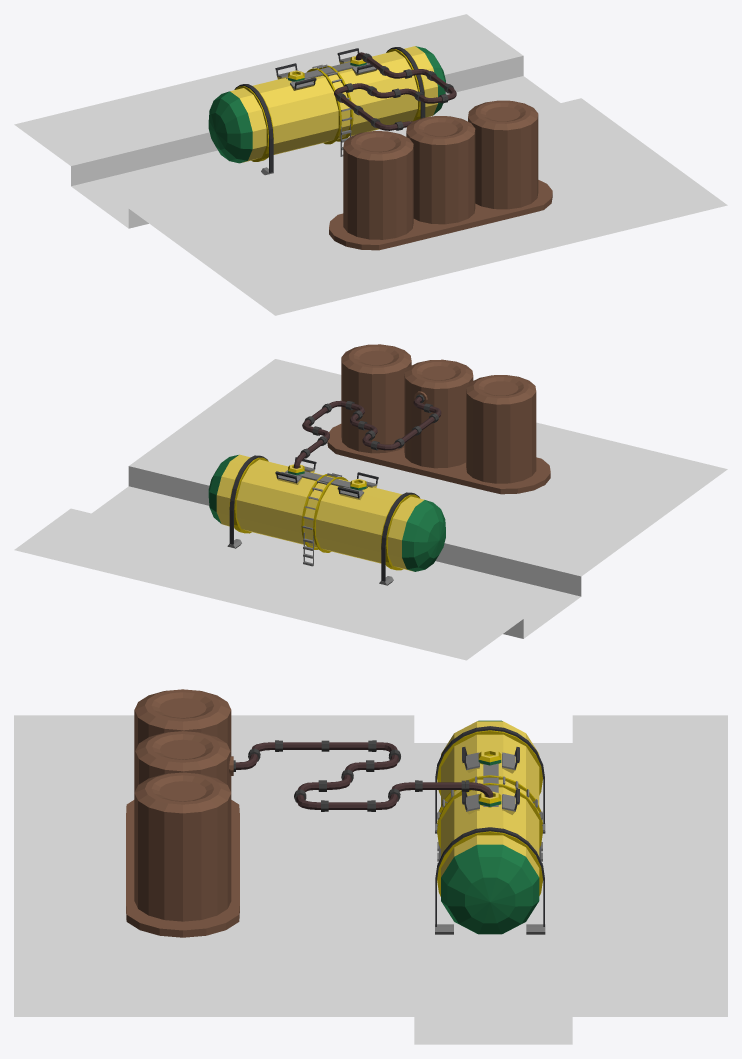
File: newPipes.fbx
The picture shows the model from 3 angles, top to bottom: view 1: azimuth 30°, elevation 25°; view 2: azimuth 150°, elevation 25°; view 3: azimuth 270°, elevation 25°; orthographic projection. The views are drawn at different scales.
Parts seen in each view (by area): view 1: Plane, Cylinder, tank; view 2: Plane, Cylinder, tank; view 3: Plane, Cylinder, tank.
Boxes of the visible parts, <box> form: Plane: <box>14,14,727,315</box>; Cylinder: <box>329,100,552,250</box>; tank: <box>208,46,445,175</box>; Plane: <box>14,359,727,660</box>; Cylinder: <box>327,344,550,494</box>; tank: <box>208,454,445,585</box>; Plane: <box>14,715,727,1044</box>; Cylinder: <box>126,689,239,937</box>; tank: <box>435,720,545,934</box>.
Bounding box in the file's own units: 3273 × 746 × 3273.
